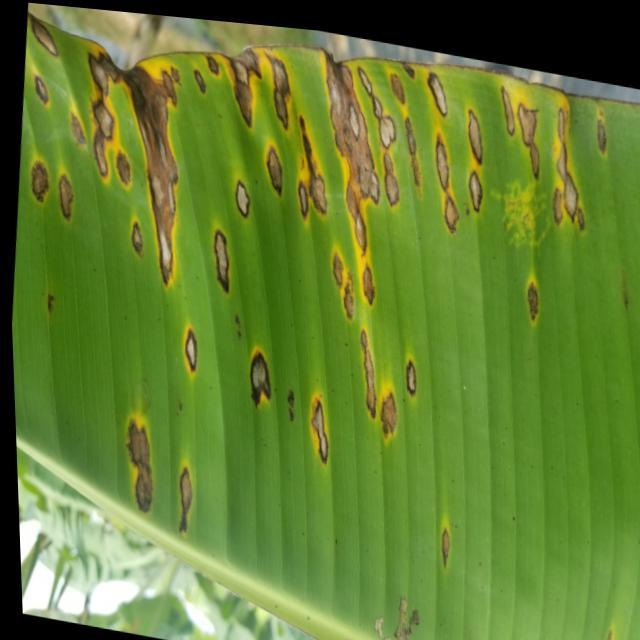Early_rust: (23, 12, 640, 634)
